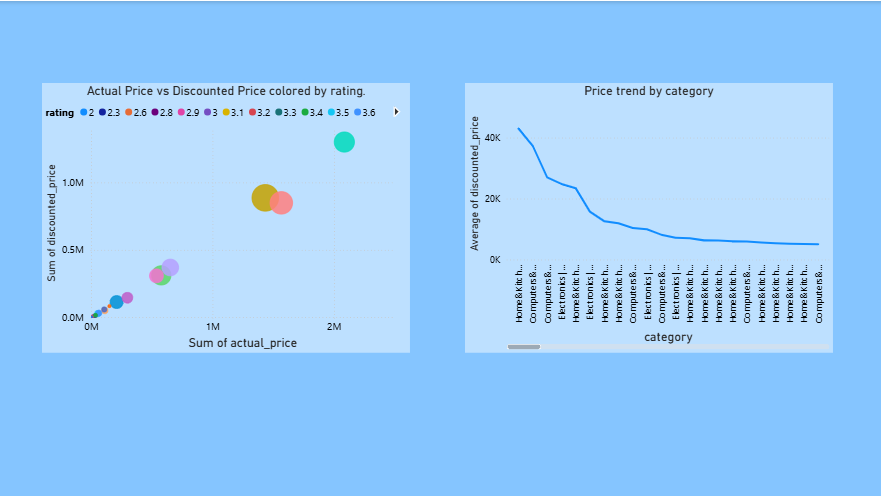

What the dashboard file says about the page in this screenshot:
{"tool":"powerbi","page":{"name":"Pricing Analysis","canvas":[1280,720],"ordinal":2},"visuals":[{"type":"scatterChart","title":"Actual Price vs Discounted Price colored by rating.","fields":{"X":["Sum(amazon.actual_price)"],"Y":["Sum(amazon.discounted_price)"],"Series":["amazon.rating"],"Size":["Sum(amazon.rating_count)"]},"box":[63.6,118.6,532,390.4],"z":0},{"type":"lineChart","title":"Price trend by category","fields":{"Category":["amazon.category"],"Y":["Avg(amazon.discounted_price)"]},"box":[675.2,118.6,532,390.4],"z":1000}]}

Visuals, with their boxes in screenshot pixels (x1, y1, x2, y2), scaled from the page's 1280x720 canvas onto the 881x496 screenshot:
"Actual Price vs Discounted Price colored by rating." scatterChart: x1=44 y1=82 x2=410 y2=351
"Price trend by category" lineChart: x1=465 y1=82 x2=831 y2=351
